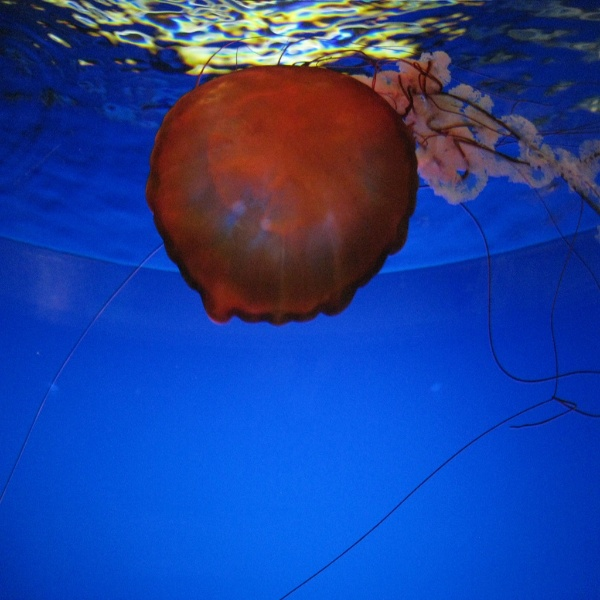Jellyfish: (144, 30, 599, 329)
